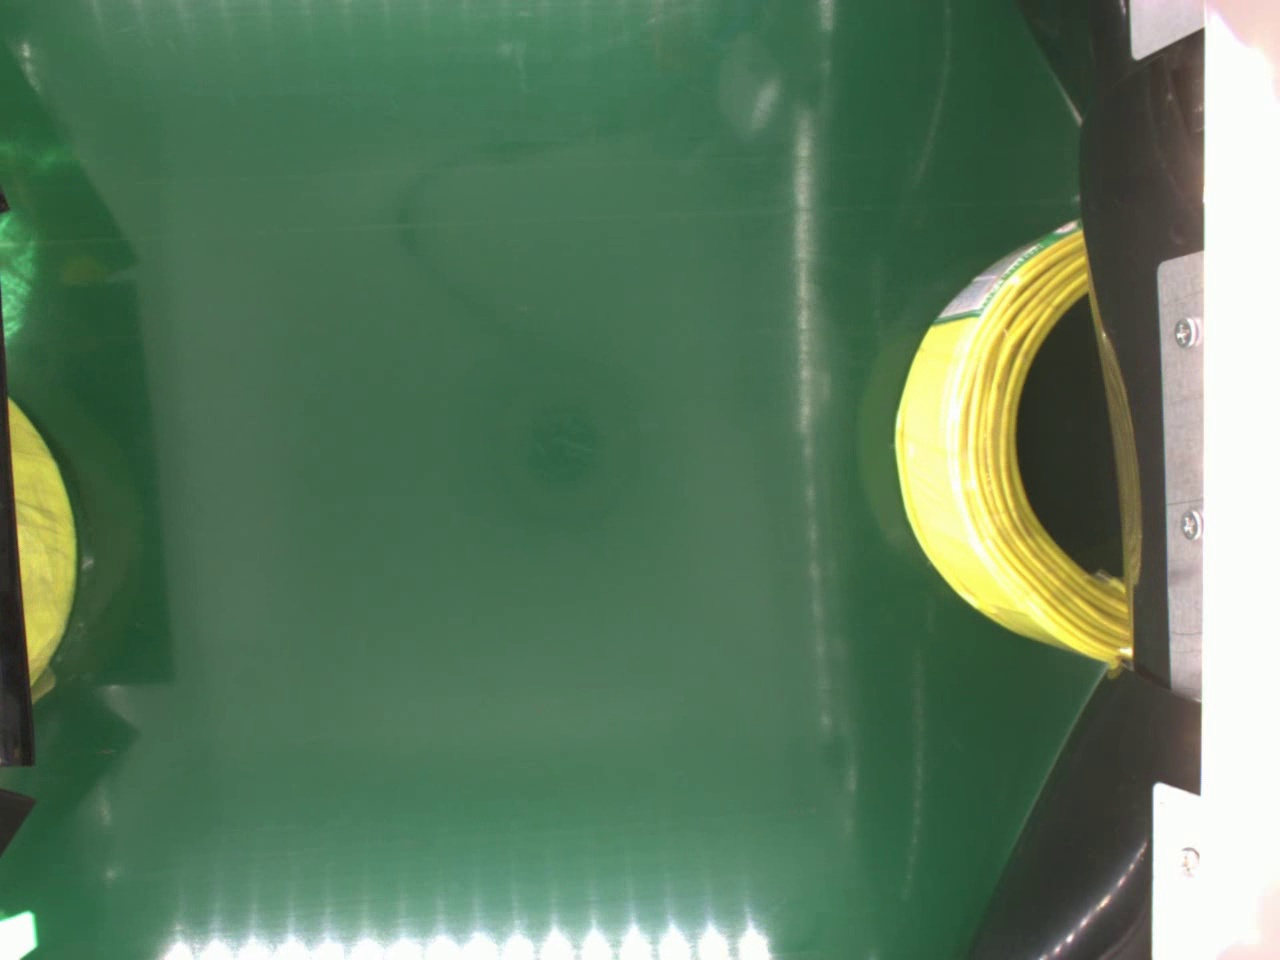yellow: (891, 213, 1133, 661)
